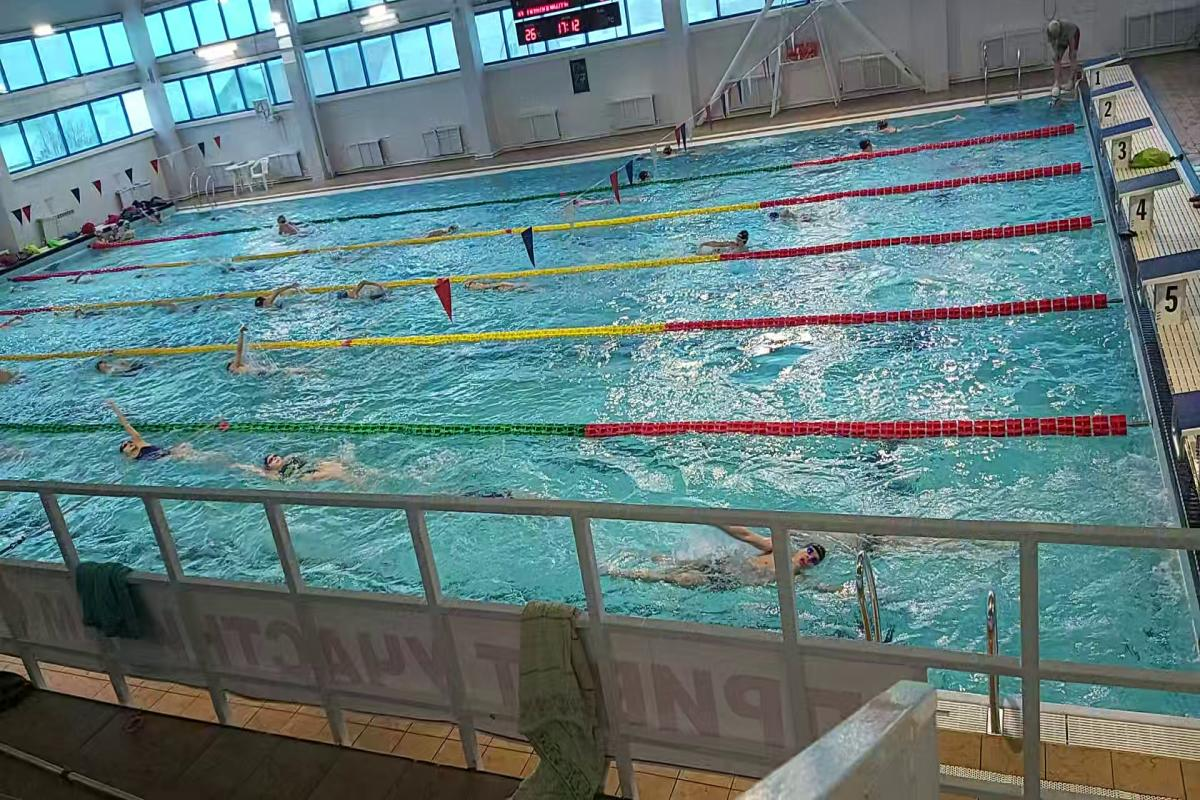swimmer: (601, 525, 771, 605), (233, 439, 388, 485), (106, 434, 222, 474), (222, 351, 312, 382), (450, 276, 540, 301), (334, 277, 401, 310), (88, 356, 149, 380), (702, 229, 759, 253), (566, 191, 641, 208), (52, 305, 117, 323), (273, 210, 310, 240), (253, 292, 299, 316), (765, 206, 816, 224), (422, 218, 466, 236)
